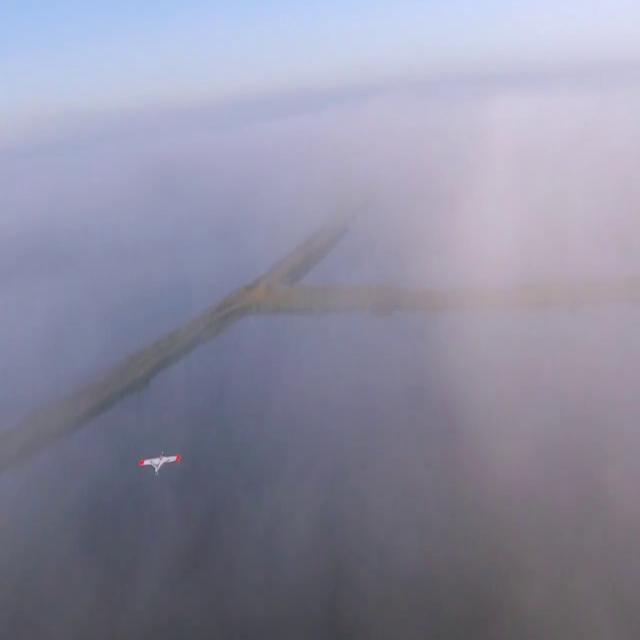iha: (136, 450, 182, 481)
